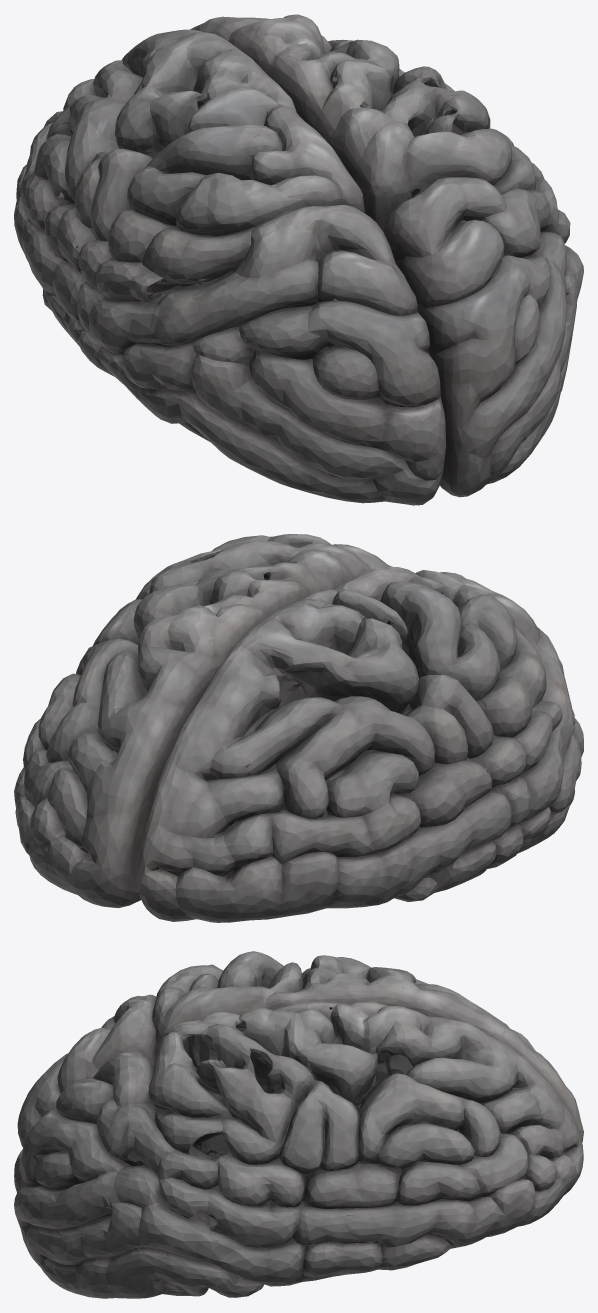
File: brain.glb
3 views of the same model, one above another, from view 1: azimuth 30°, elevation 25°; view 2: azimuth 150°, elevation 25°; view 3: azimuth 270°, elevation 25° (orthographic). The views are drawn at different scales.
Visible parts, largest first — view 1: geometry_0; view 2: geometry_0; view 3: geometry_0.
Part boxes in pixels (x1,y1,x2,y2): geometry_0: [14, 14, 583, 505]; geometry_0: [14, 534, 583, 922]; geometry_0: [14, 951, 583, 1298].
Bounding box in the file's own units: 0.7691 × 0.5243 × 0.9978.
1 material, 1 textured.
